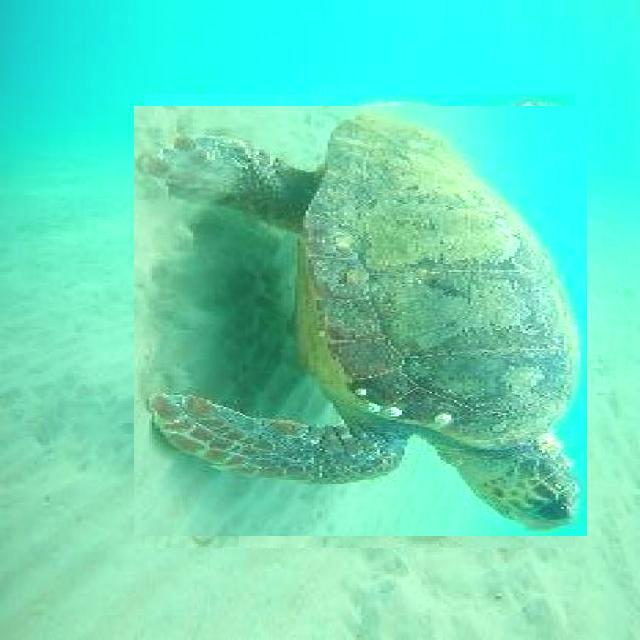Sea turtle: (139, 100, 581, 542)
